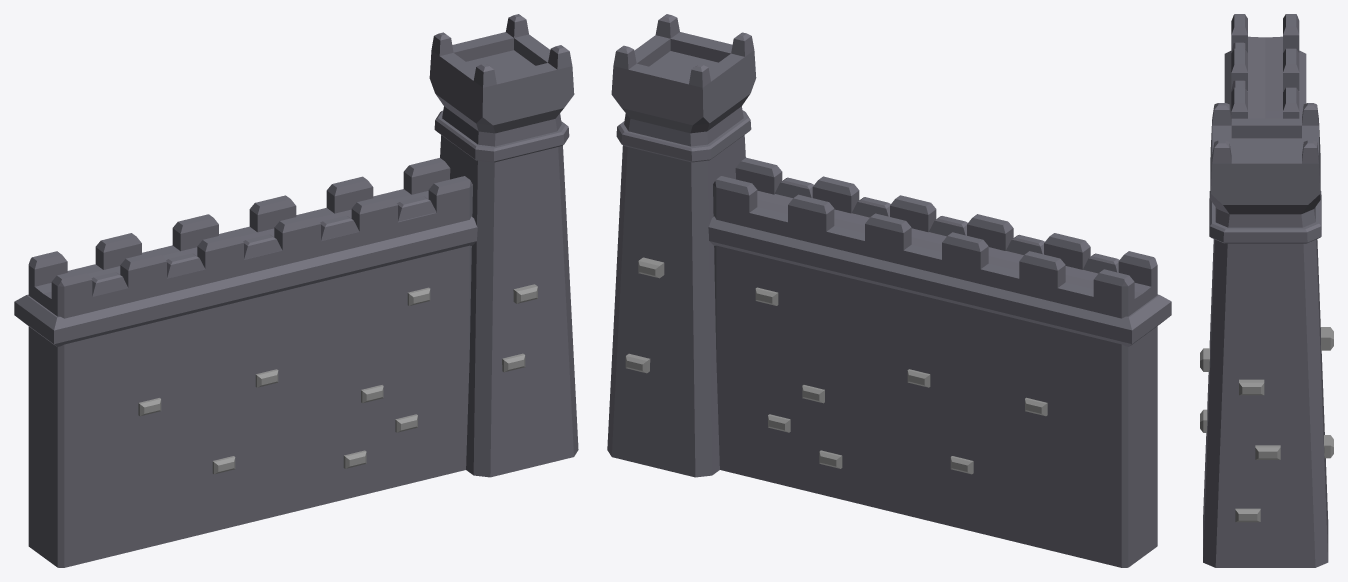
File: StoneWall#2.fbx
The picture shows the model from 3 angles, left to right: view 1: azimuth 30°, elevation 25°; view 2: azimuth 150°, elevation 25°; view 3: azimuth 270°, elevation 25°; orthographic projection. The views are drawn at different scales.
Visible parts, largest first — view 1: Wall#2; view 2: Wall#2; view 3: Wall#2.
Boxes of the visible parts, box(x1,y1,x2,y2) form: Wall#2: box(14, 14, 578, 567); Wall#2: box(607, 14, 1171, 567); Wall#2: box(1200, 14, 1333, 567).
Size of the model in its own units: 3720 by 2749 by 797.
